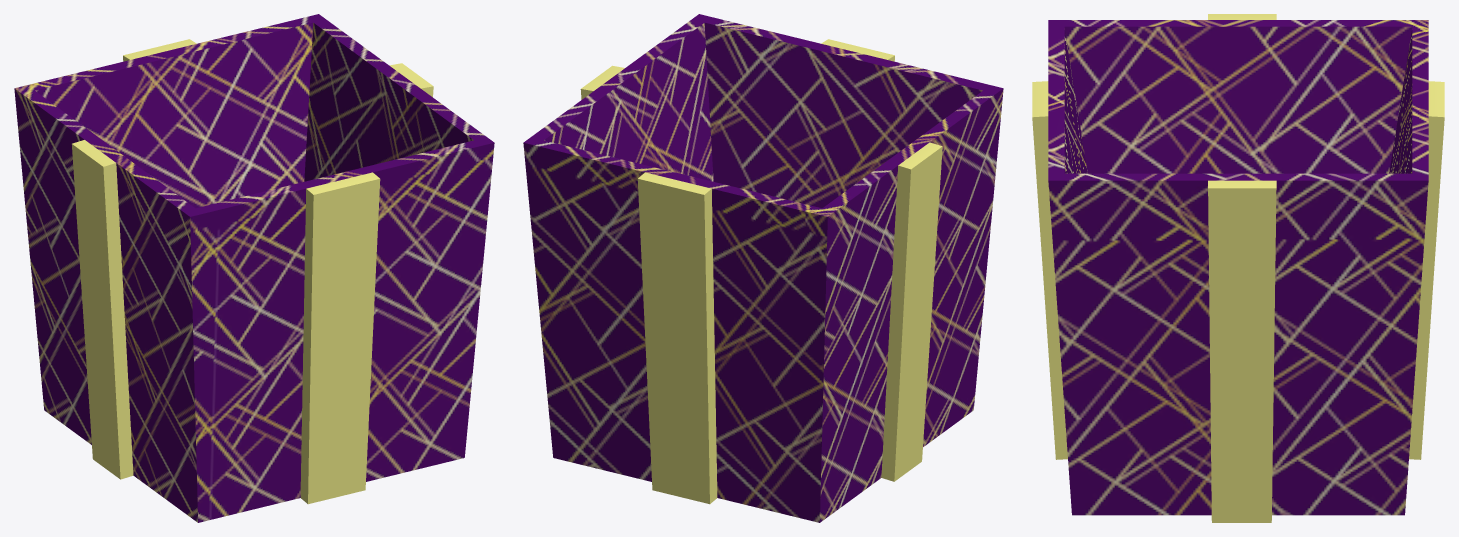
Rendered from presentLower.fbx.
3 renders of one model, left to right at view 1: azimuth 30°, elevation 25°; view 2: azimuth 150°, elevation 25°; view 3: azimuth 270°, elevation 25°, orthographic. The views are drawn at different scales.
Parts seen in each view (by area): view 1: boxLower; view 2: boxLower; view 3: boxLower.
Boxes of the visible parts, x1,y1,x2,y2 form: boxLower: [14, 14, 494, 522]; boxLower: [523, 14, 1003, 522]; boxLower: [1032, 14, 1444, 522].
Bounding box in the file's own units: 128 × 118 × 128.
